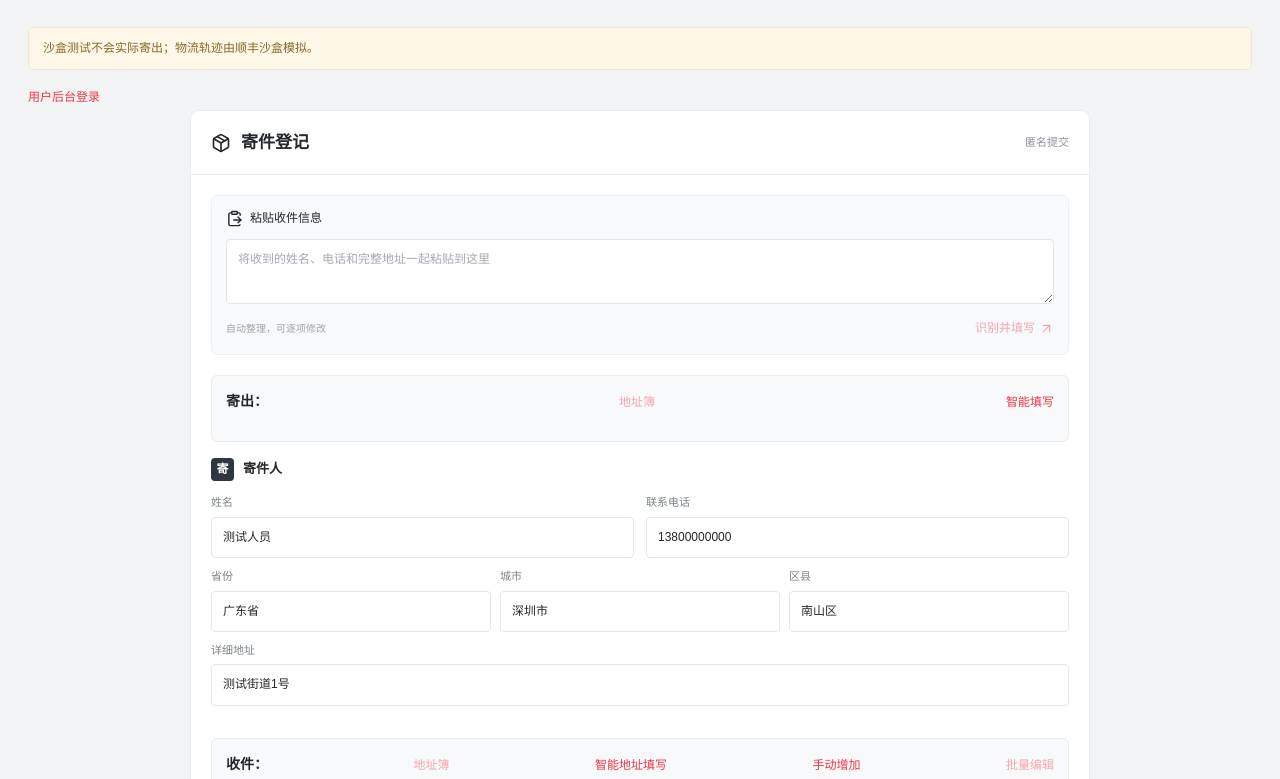
Test case: one screen shipping interaction › submits an anonymous monthly shipment and shows a safe receipt
The image size is (1280, 779).
Type "张三 13800000000 广东省深圳市南山区科技路1号" into the text box labelled "粘贴收件信息" at (640,271), box [226,238,1054,304]
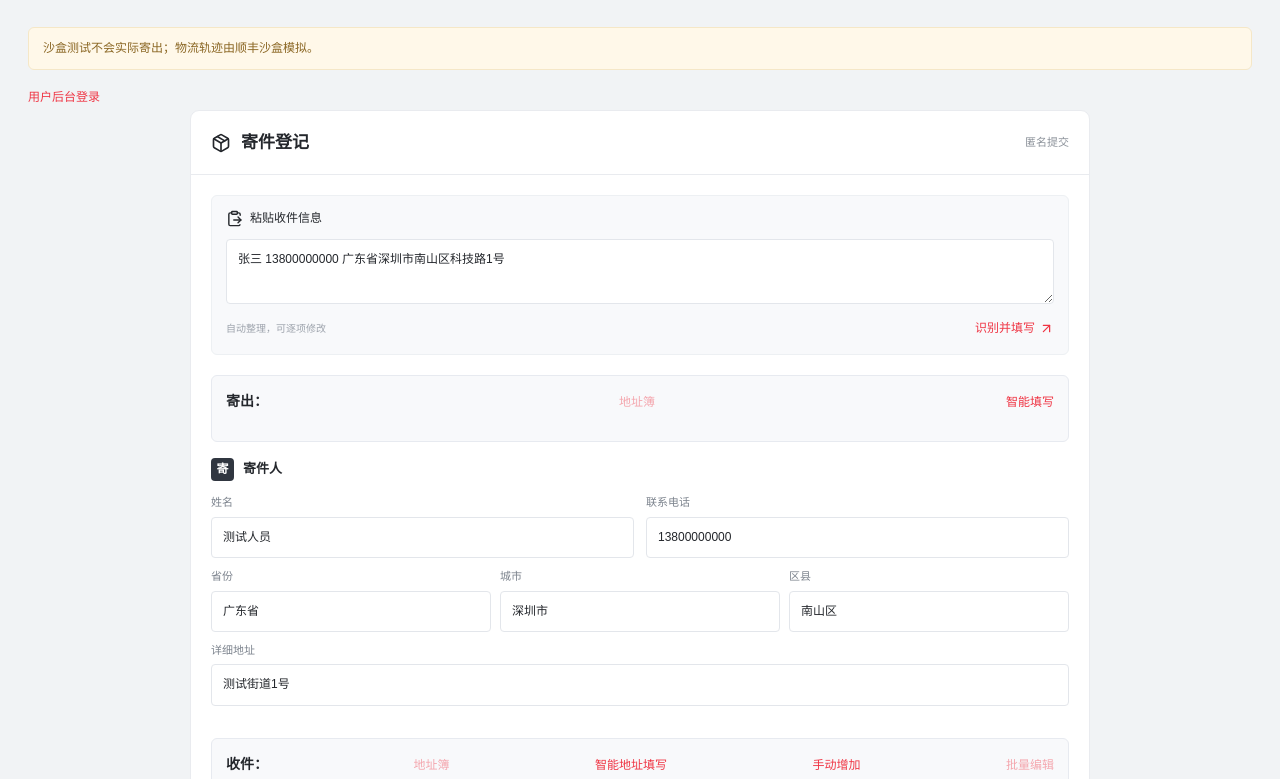
Click the button "识别并填写" at (1014,328), box [975,316,1054,341]
(page scrolled)
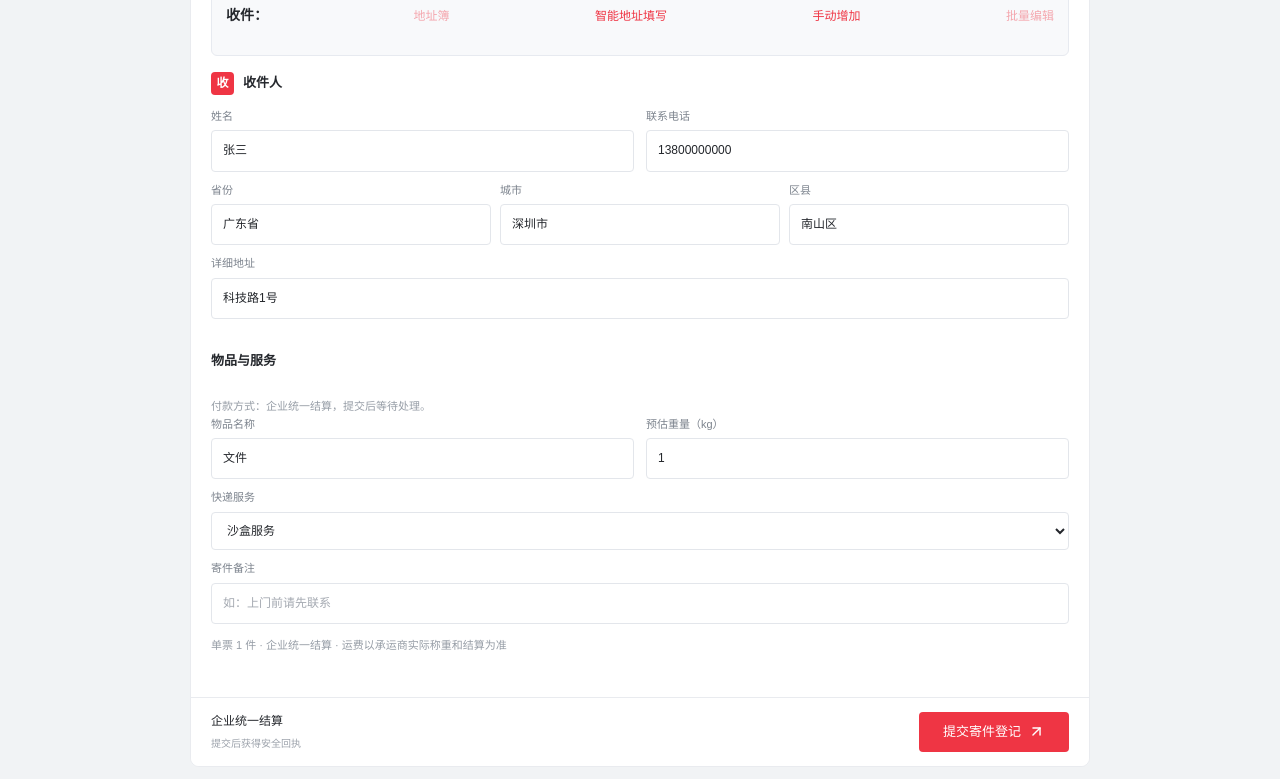
Click the button "提交寄件登记" at (994,732), box [919,712,1069,752]
(page scrolled)
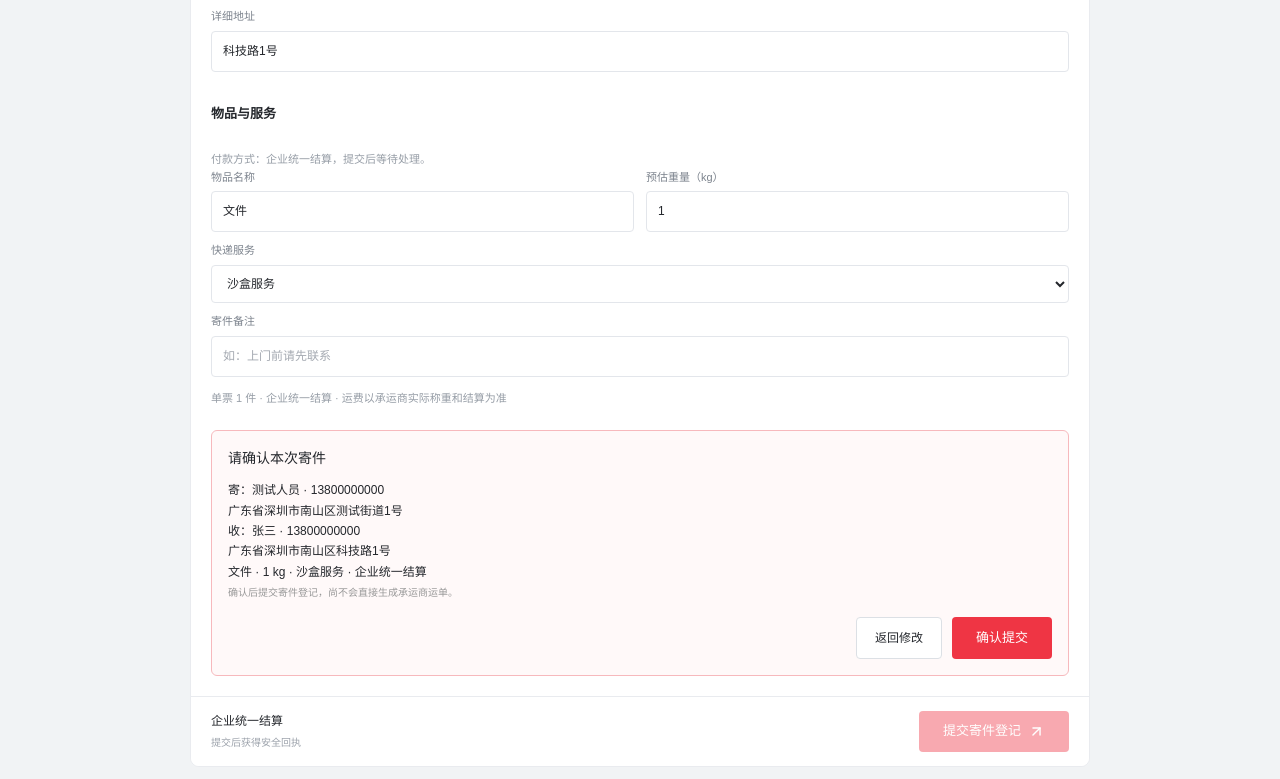
Click the button "确认提交" at (1002,638), box [952,617,1052,659]
(page scrolled)
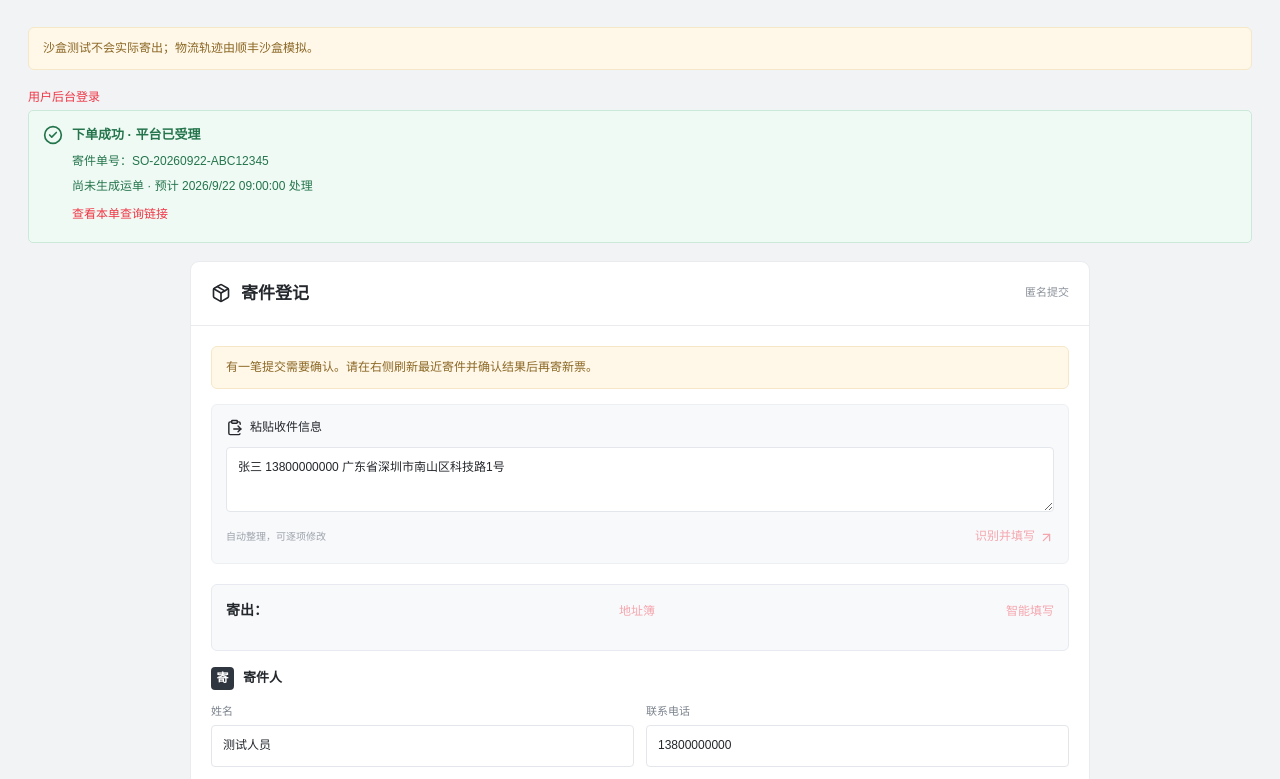
Expected: the text "下单成功 · 平台已受理" is shown, [72,127,201,142]
Expected: the text "寄件单号：SO-20260922-ABC12345" is shown, [72,154,269,168]
